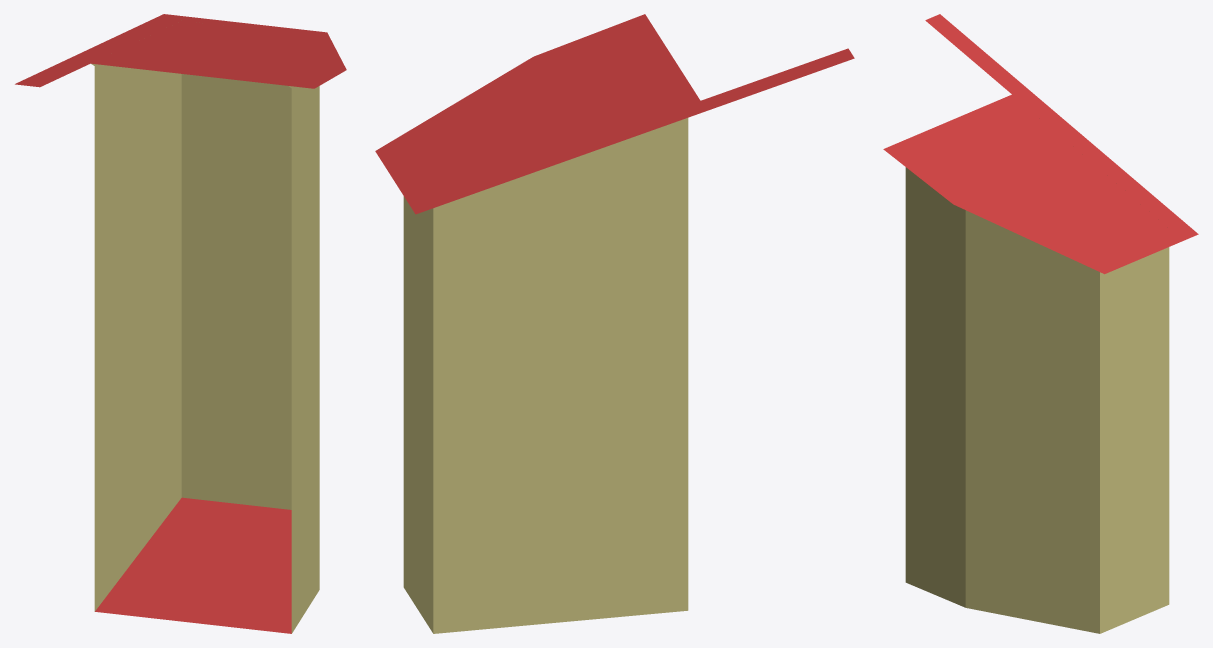
3 renders of one model, left to right at view 1: azimuth 30°, elevation 25°; view 2: azimuth 150°, elevation 25°; view 3: azimuth 270°, elevation 25°, orthographic. The views are drawn at different scales.
Bounding box in the file's own units: 8.93 × 7.41 × 12.18.
